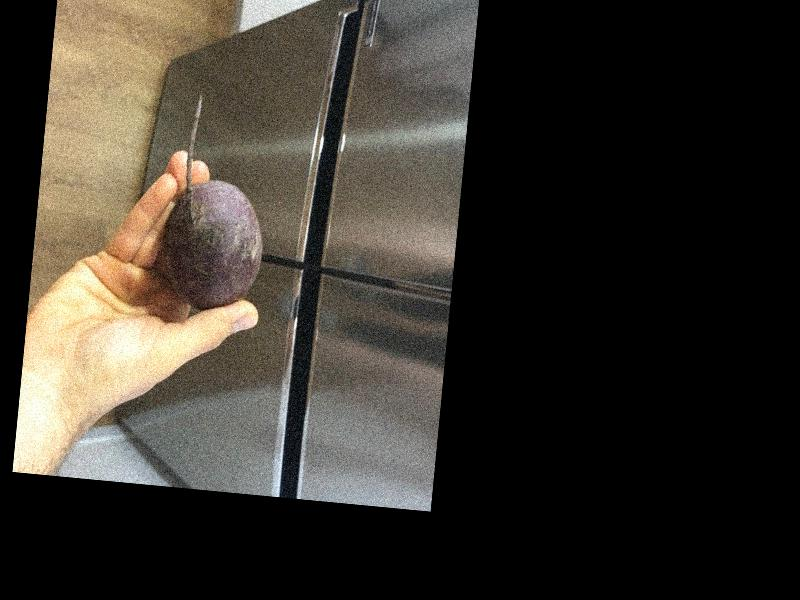Beet: (159, 91, 277, 313)
